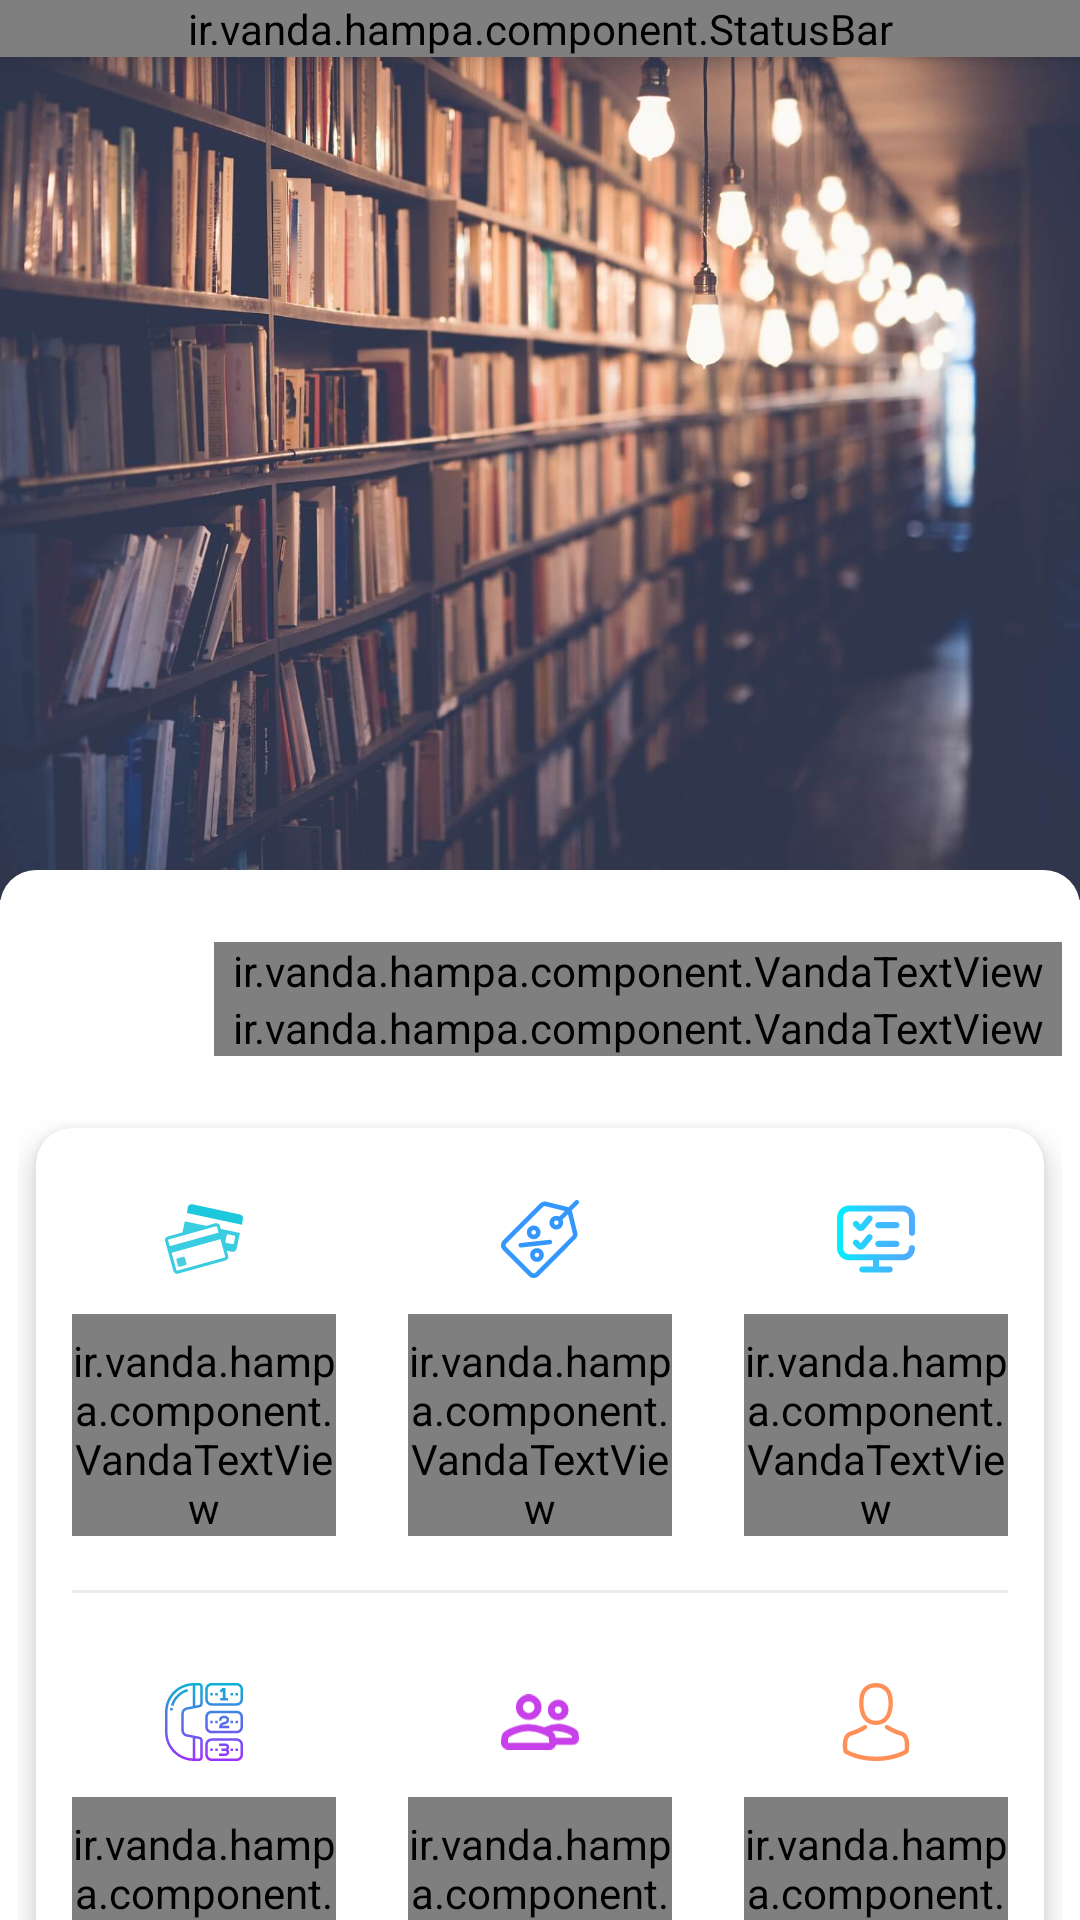

Icon bounding boxes for this 1080×1920 phone screenshot, format (x1, y1, x2, y2):
contact us: (165, 1683, 243, 1761)
discount: (501, 1200, 579, 1278)
exam: (837, 1205, 915, 1273)
friends: (501, 1694, 579, 1750)
payment: (165, 1204, 243, 1274)
profile: (842, 1683, 910, 1761)
